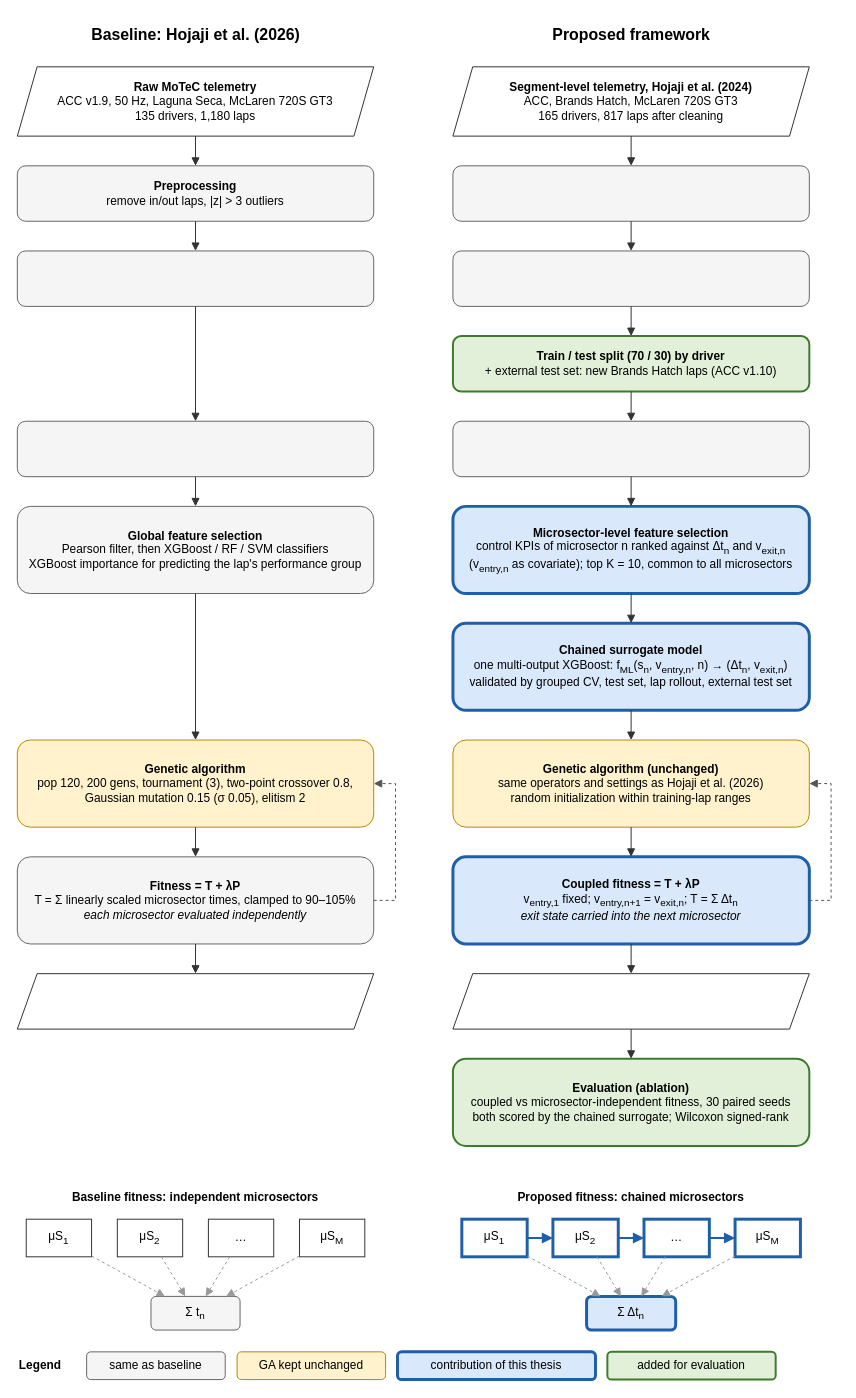
Some shapes in this 856 by 1398 pixel diagram are drawn without their labels. Here are the shapes that lost their labels. From the top down, the centre of each, then its label:
At pixel 630 193: "Preprocessing remove out-laps and invalid laps, |z| > 3 across all laps".
At pixel 195 278: "Microsector segmentation 20 microsectors (10 corners, 10 straights)".
At pixel 630 278: "Microsector segmentation 19 microsectors (9 corners, 10 straights)".
At pixel 195 448: "Performance stratification K-Means on lap time (Fast / Medium / Slow)".
At pixel 630 448: "Performance stratification K-Means on lap time; Fast cluster = reference".
At pixel 195 1001: "Output idealized microsector KPIs".
At pixel 630 1001: "Output per-microsector KPI targets as coaching instructions".
